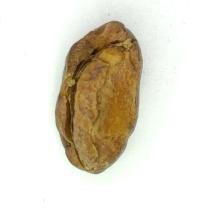NG: (54, 23, 129, 172)
